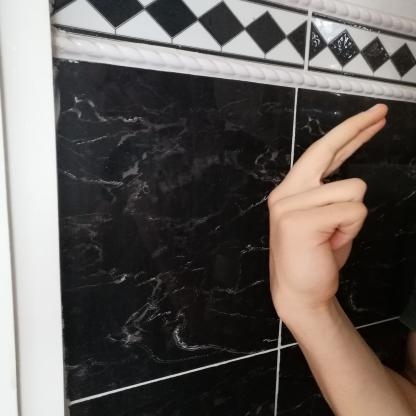ZAY: (254, 94, 400, 327)
